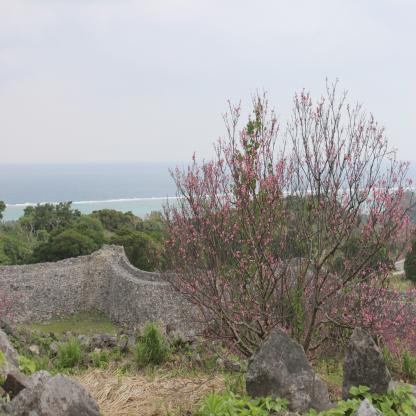KanhiSakura: (158, 76, 416, 336)
